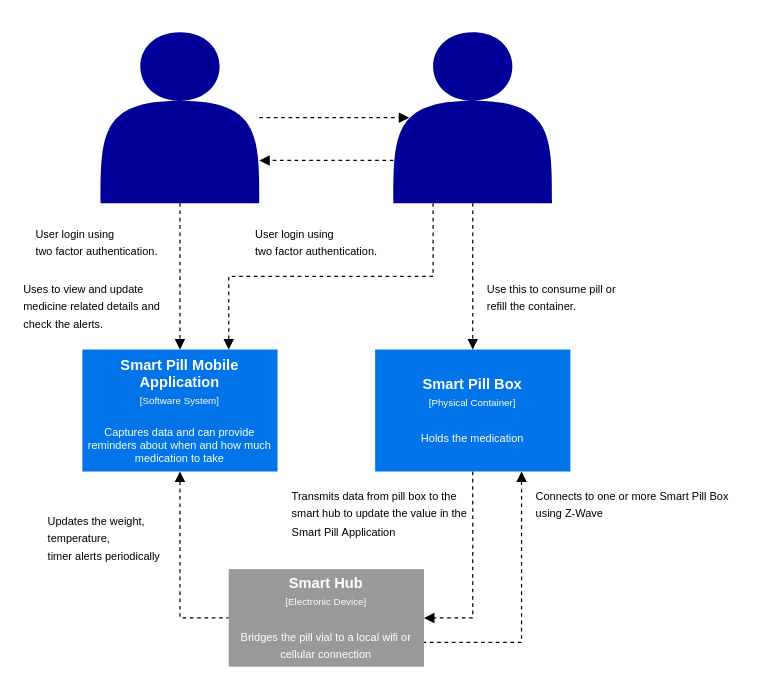
The diagram is 761 pixels wide and 687 high, and some of its shapes have lost their labels. The centre of each missing label's shape, as x and y in pixels:
"Caregiver/ Clinical Team [Person]" belongs at point 179,117.
"Patient [Person]" belongs at point 472,117.
